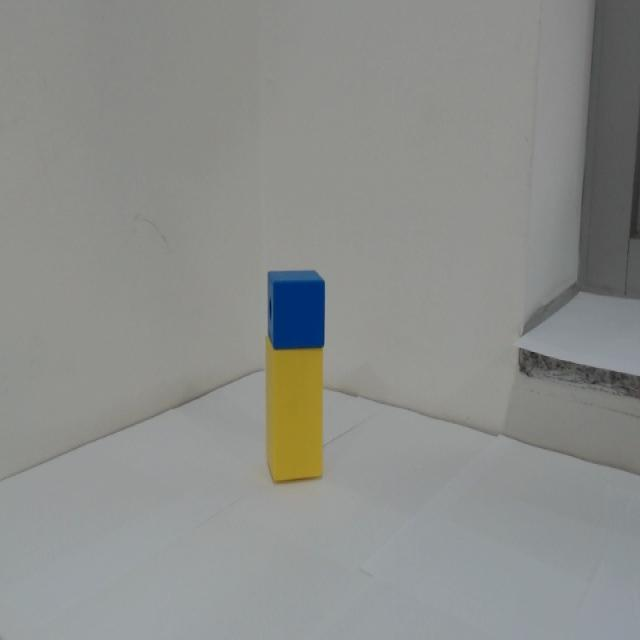cube: (266, 267, 325, 351)
